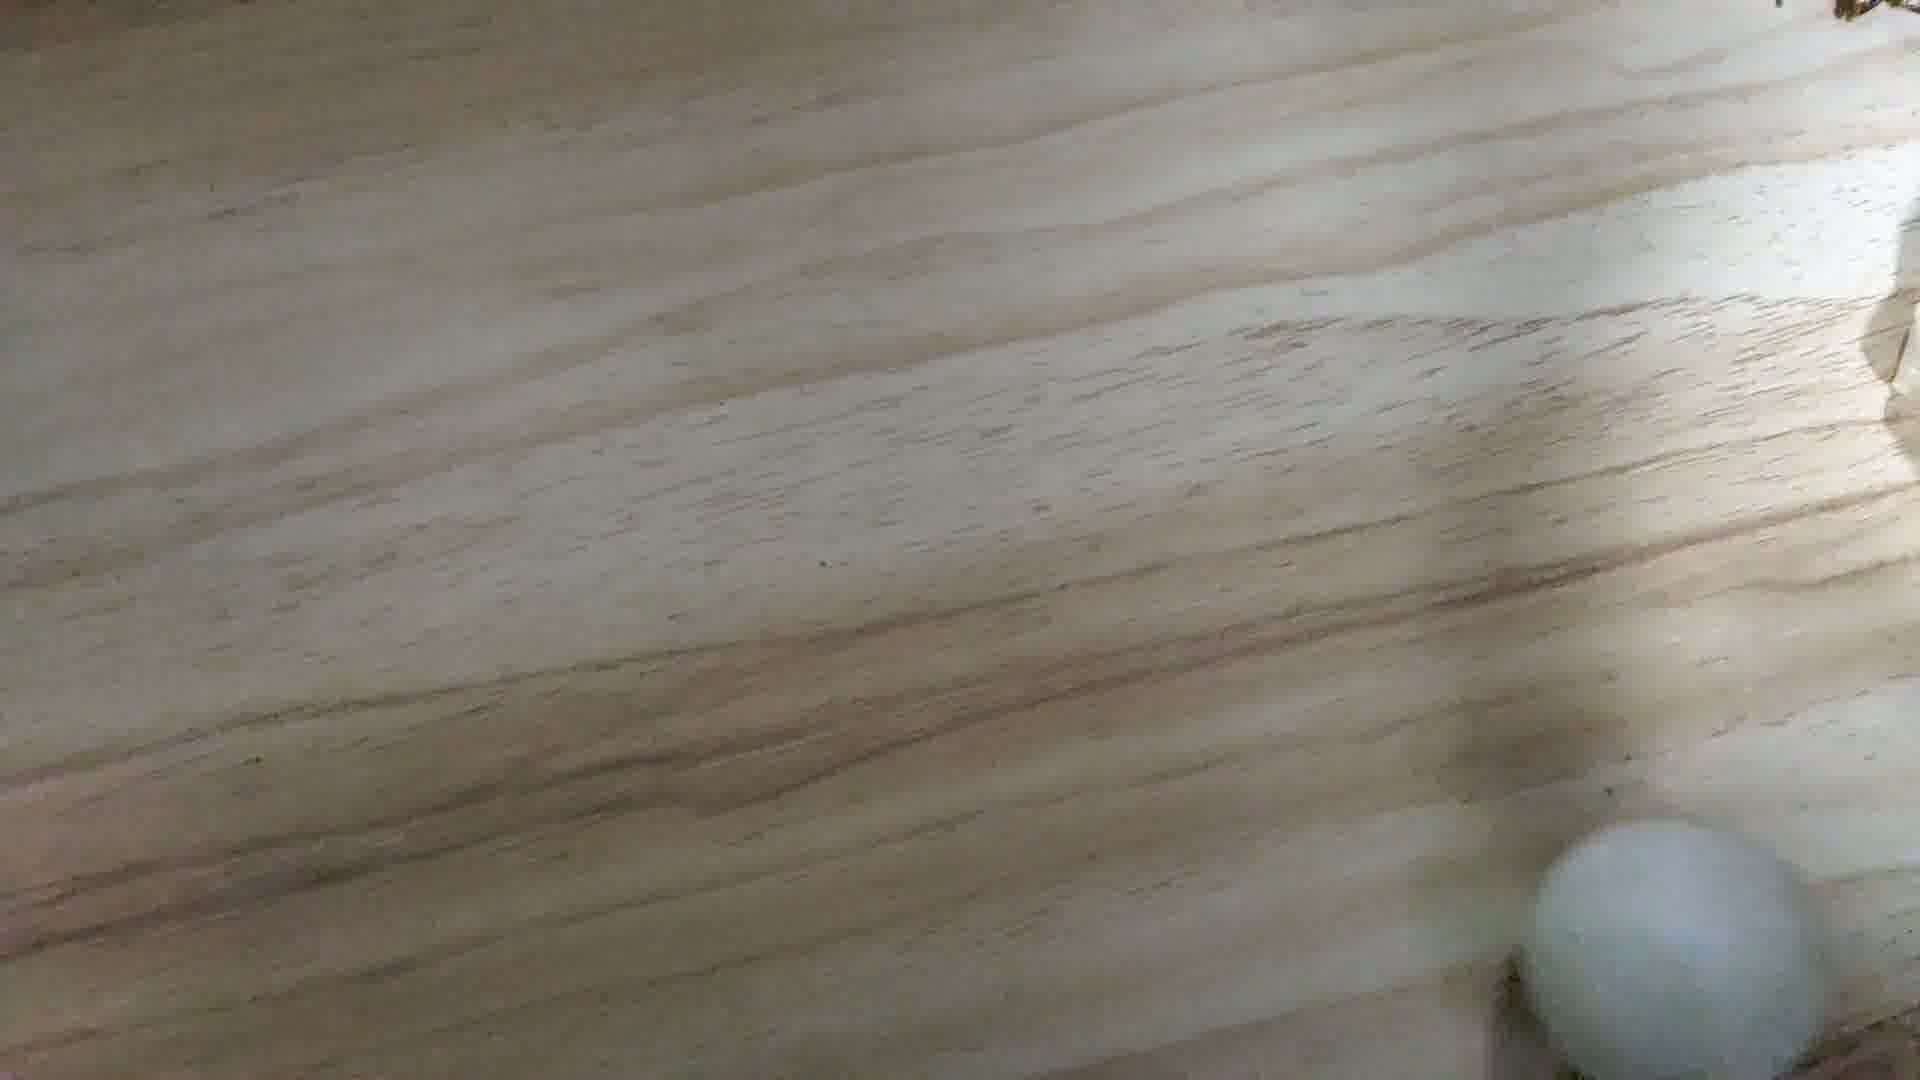Ball: (1520, 814, 1838, 1080)
